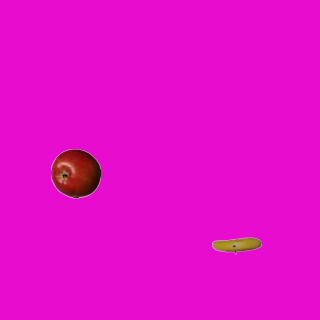Apple Braeburn: (50, 148, 100, 198)
Banana: (211, 220, 261, 270)
